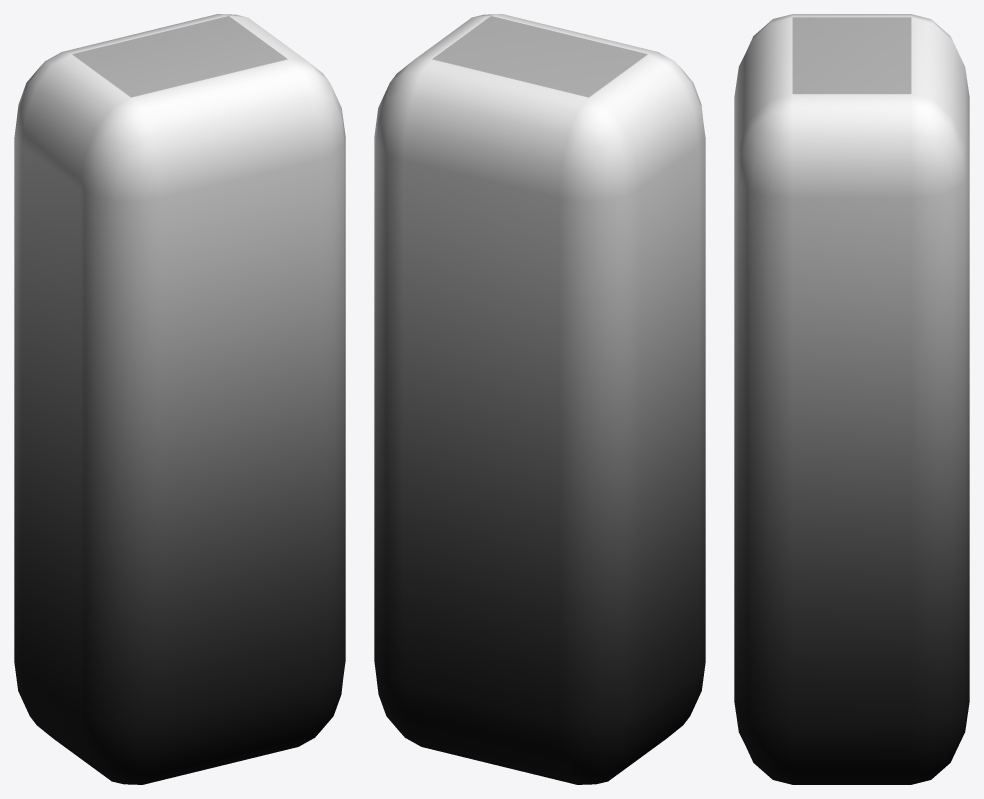
The model's file is BG_simpletower1.fbx.
3 views of the same model, side by side, from view 1: azimuth 30°, elevation 25°; view 2: azimuth 150°, elevation 25°; view 3: azimuth 270°, elevation 25° (orthographic).
Parts seen in each view (by area): view 1: BG_simpletower1; view 2: BG_simpletower1; view 3: BG_simpletower1.
Part boxes in pixels (bbox=[...]): BG_simpletower1: bbox=[14, 14, 345, 784]; BG_simpletower1: bbox=[374, 14, 705, 784]; BG_simpletower1: bbox=[734, 14, 969, 784].
Size of the model in its own units: 778 by 1978 by 613.
